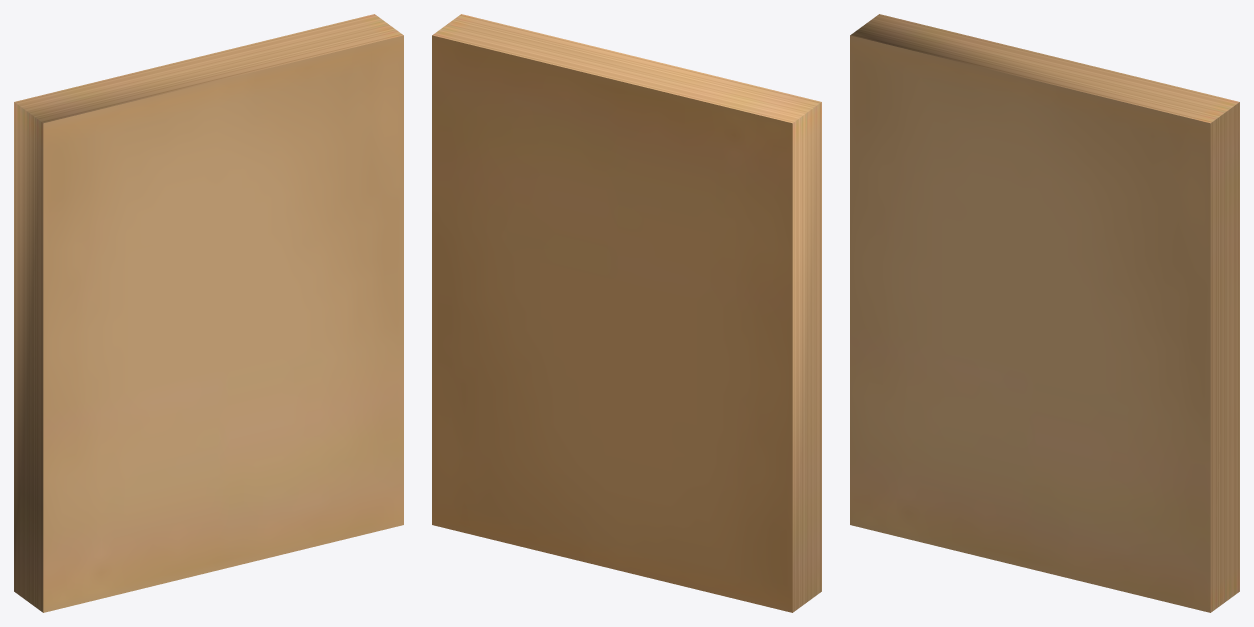
Rendered from pad.glb.
3 views of the same model, side by side, from view 1: azimuth 30°, elevation 25°; view 2: azimuth 150°, elevation 25°; view 3: azimuth 330°, elevation 25° (orthographic).
Visible parts, largest first — view 1: pad; view 2: pad; view 3: pad.
Boxes of the visible parts, x1=… form: pad: x1=14, y1=14, x2=403, y2=612; pad: x1=432, y1=14, x2=821, y2=612; pad: x1=850, y1=14, x2=1239, y2=612.
Size of the model in its own units: 0.7581 by 0.9839 by 0.1064.
1 material, 1 textured.
